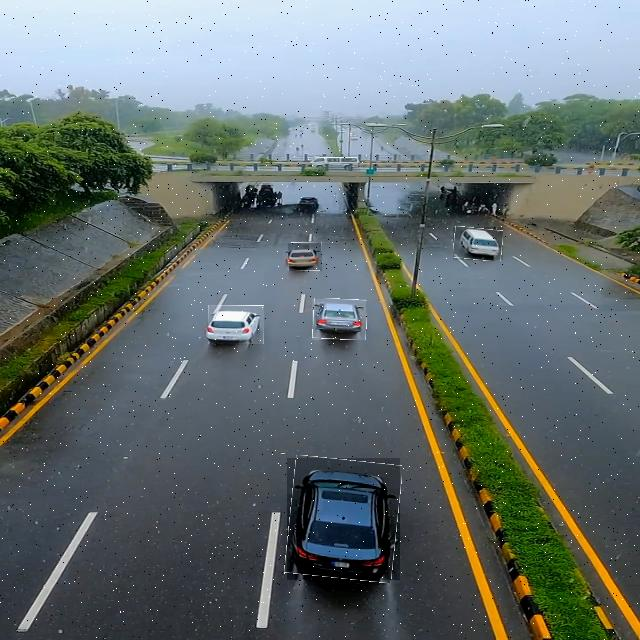Car: (287, 458, 400, 580), (313, 299, 367, 340), (208, 305, 264, 344), (453, 227, 503, 260), (288, 243, 322, 271)
